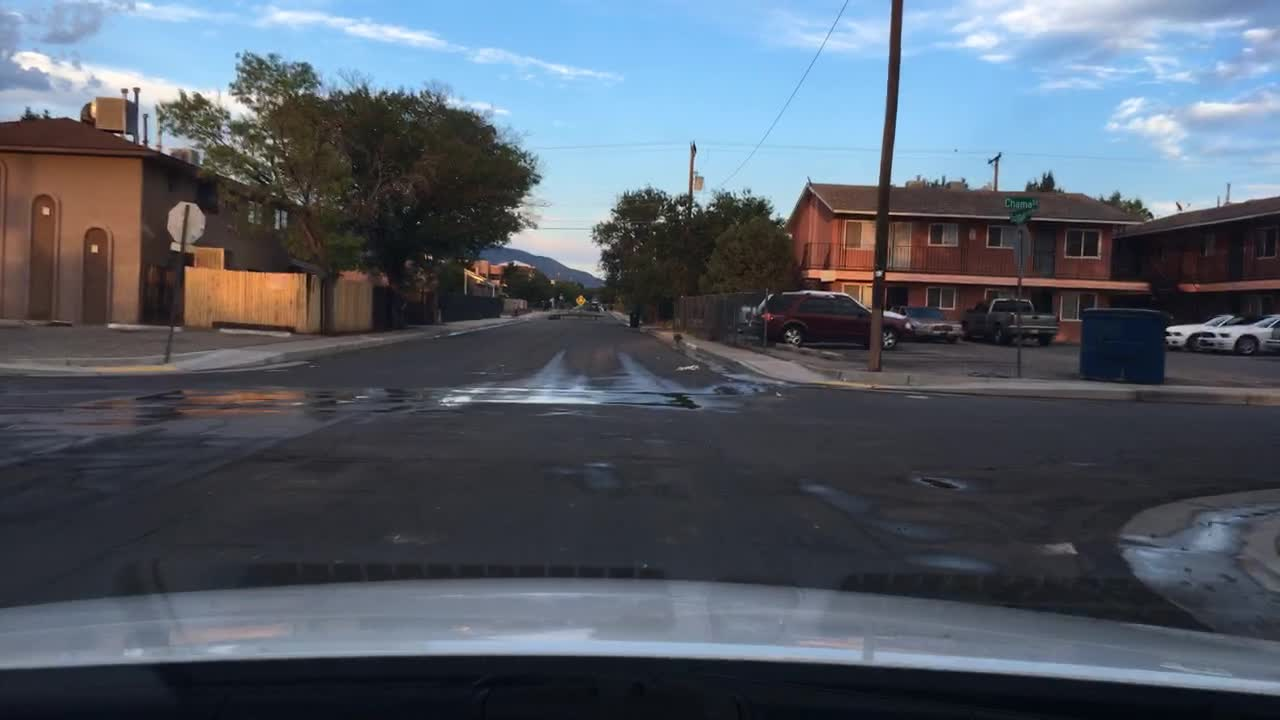car: (748, 289, 920, 352), (1192, 313, 1280, 356), (1163, 315, 1258, 353), (890, 304, 966, 344), (715, 290, 774, 335), (586, 298, 602, 310)
traffic sign: (165, 201, 205, 253), (1011, 226, 1032, 263), (1008, 197, 1040, 209), (1009, 209, 1031, 221), (576, 293, 586, 306)
truck: (963, 295, 1062, 350)
